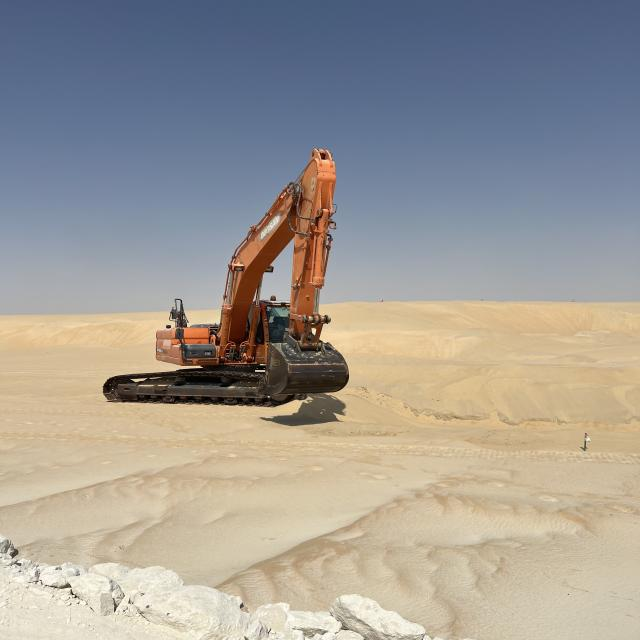Excavator: (99, 140, 350, 412)
